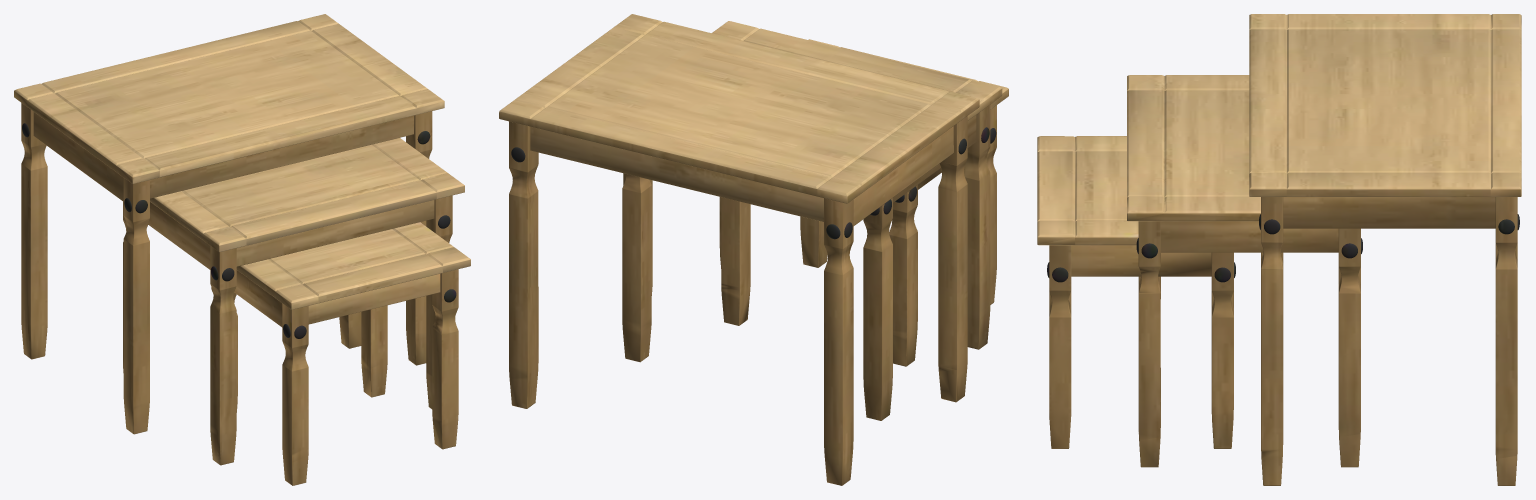
The model's file is B003DQ5B2U_draco-ultra.glb.
The picture shows the model from 3 angles, left to right: view 1: azimuth 30°, elevation 25°; view 2: azimuth 150°, elevation 25°; view 3: azimuth 270°, elevation 25°; orthographic projection. The views are drawn at different scales.
Visible parts, largest first — view 1: B003DQ5B2U; view 2: B003DQ5B2U; view 3: B003DQ5B2U.
Boxes of the visible parts, bbox=[...] form: B003DQ5B2U: bbox=[14, 14, 470, 485]; B003DQ5B2U: bbox=[499, 14, 1008, 485]; B003DQ5B2U: bbox=[1037, 14, 1521, 485].
Bounding box in the file's own units: 21628 × 17529 × 25343.
Materials: 1 (1 with a texture image).
